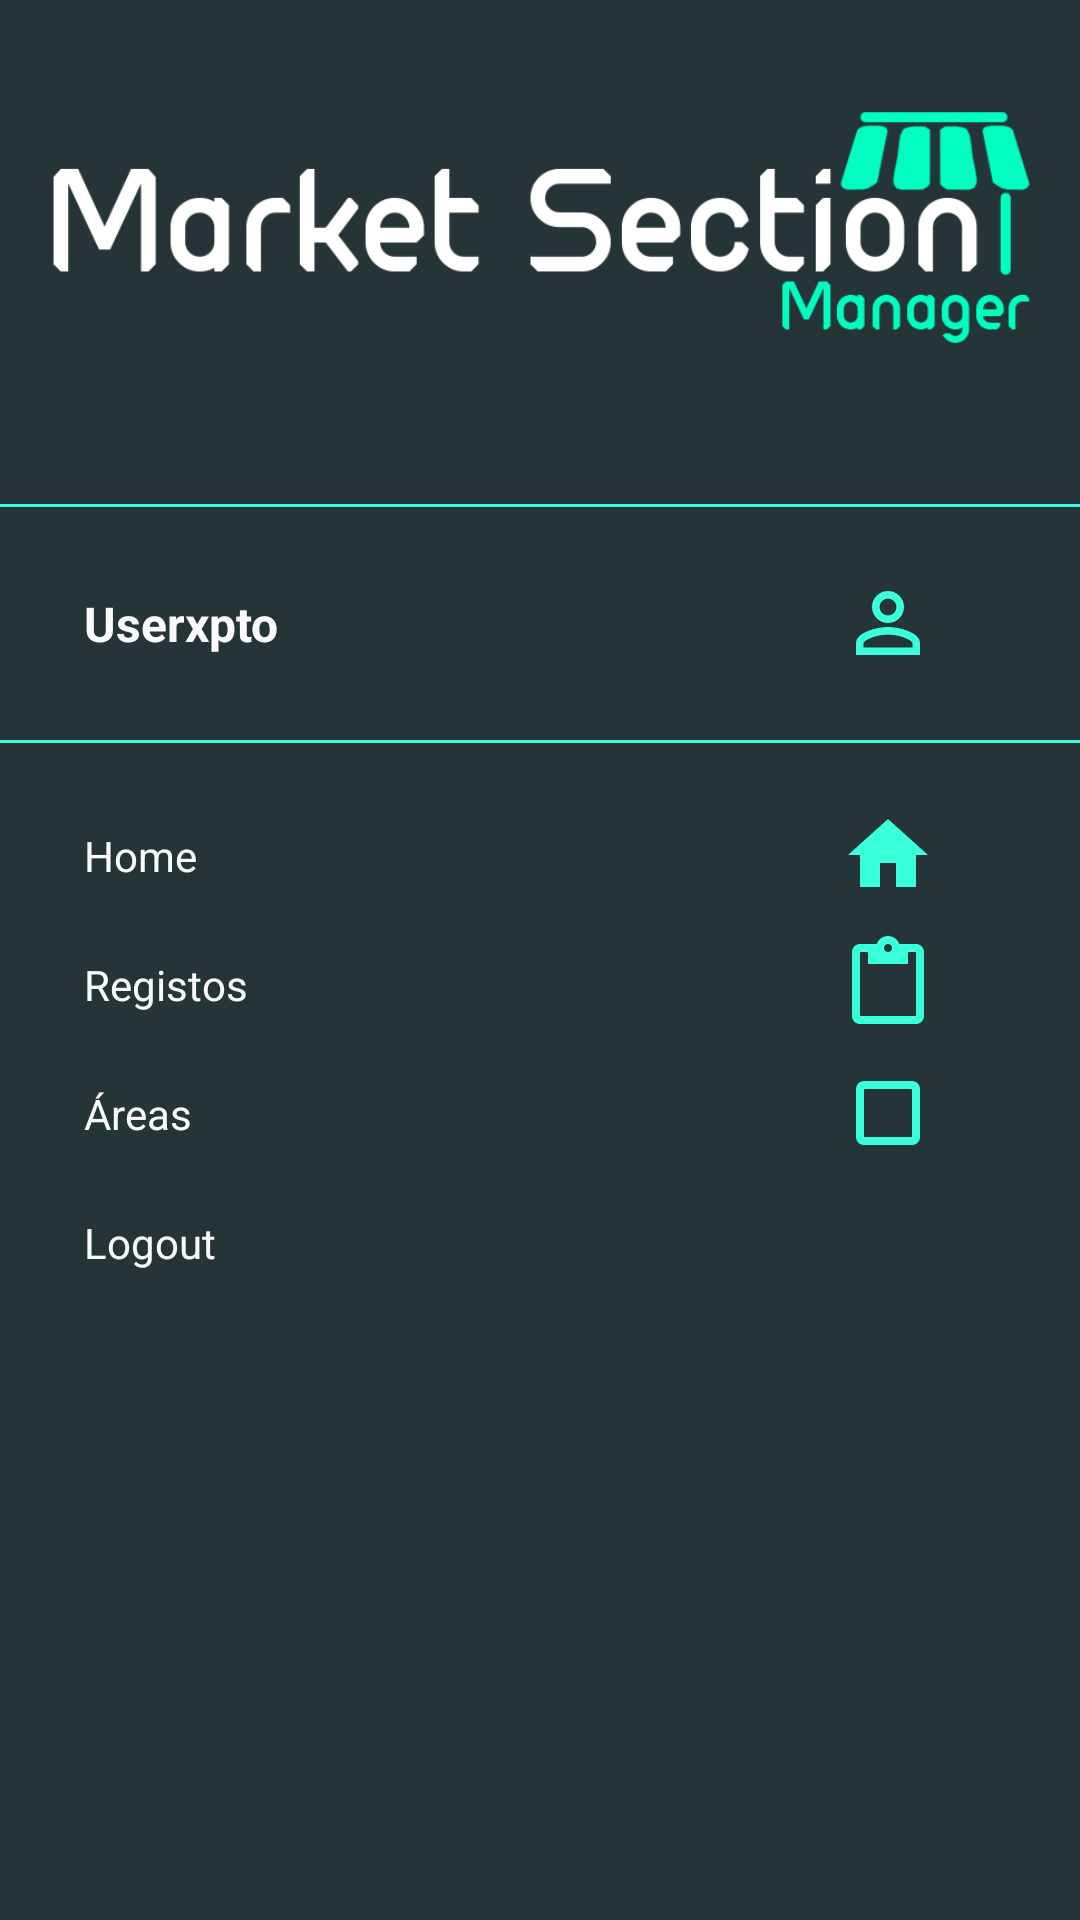

Screen size 1080×1920. Icon name, then its box in pixels as bbox=[x1, y1, x2, y2]:
content paste: bbox=[852, 936, 924, 1024]
